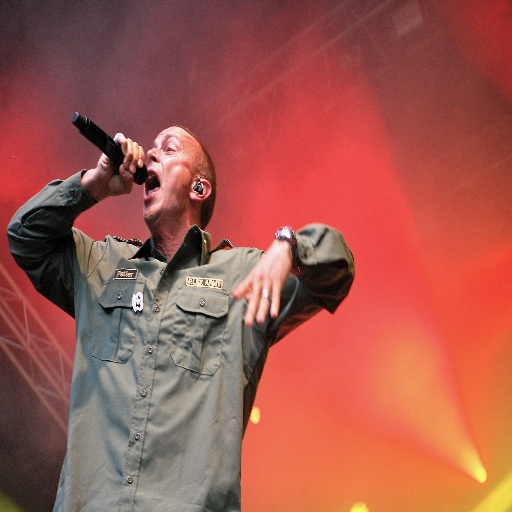hand: (236, 234, 307, 343), (94, 130, 146, 199)
